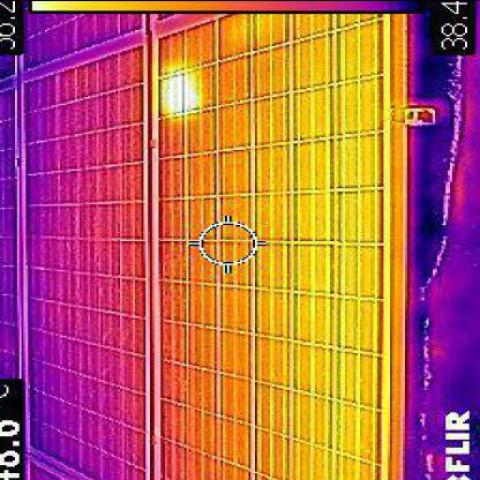fault: (165, 72, 198, 106)
